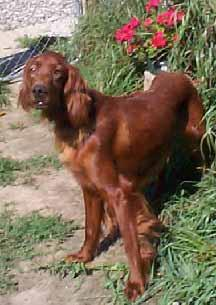Irish_setter: (17, 49, 204, 302)
